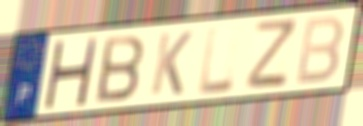B: (293, 14, 346, 88), (94, 33, 147, 105)
H: (41, 37, 100, 110)
K: (147, 29, 195, 97)
L: (197, 23, 237, 98)
Z: (243, 16, 300, 90)
